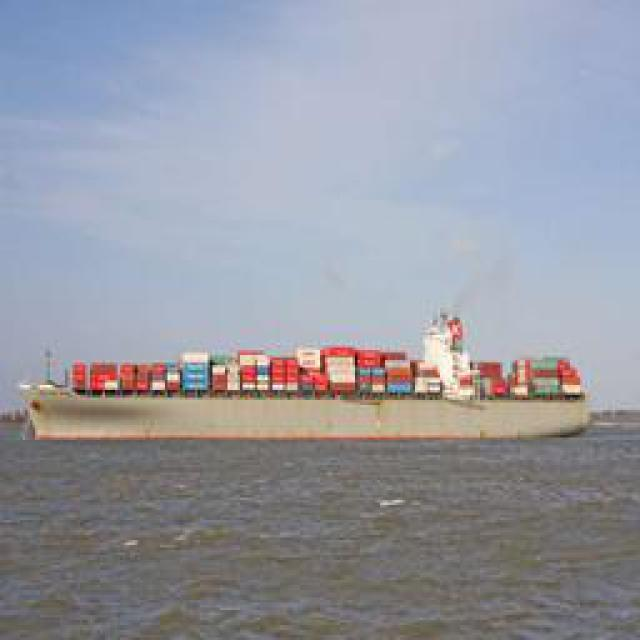Ship: (14, 329, 597, 443)
